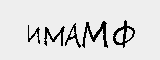А: (64, 22, 82, 48)
И: (25, 23, 41, 46)
М: (81, 20, 109, 51), (43, 22, 63, 46)
Ф: (112, 19, 136, 49)
